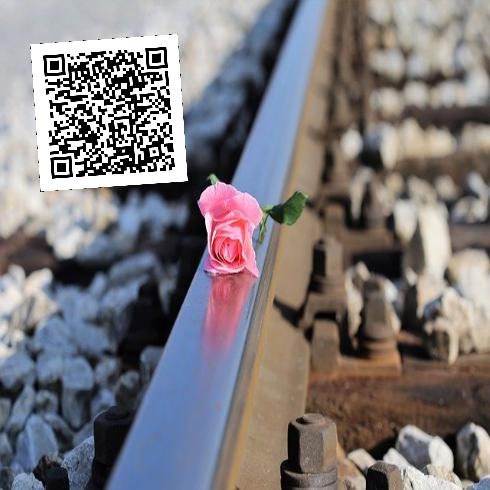qr_code: (30, 34, 187, 191)
